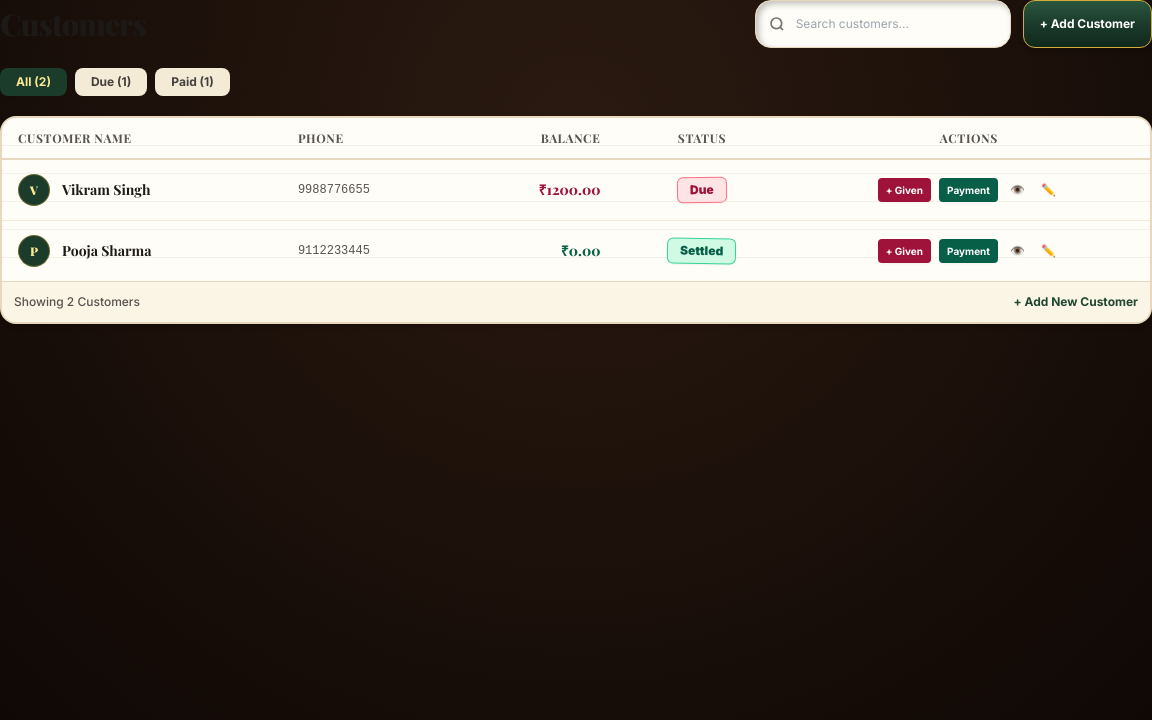
Test case: CustomerListPage › filters customers when filter tab is clicked
Note: Click "Due" filter button
Click the button "Due (1)": coordinates (111, 82) x1=75 y1=68 x2=147 y2=96
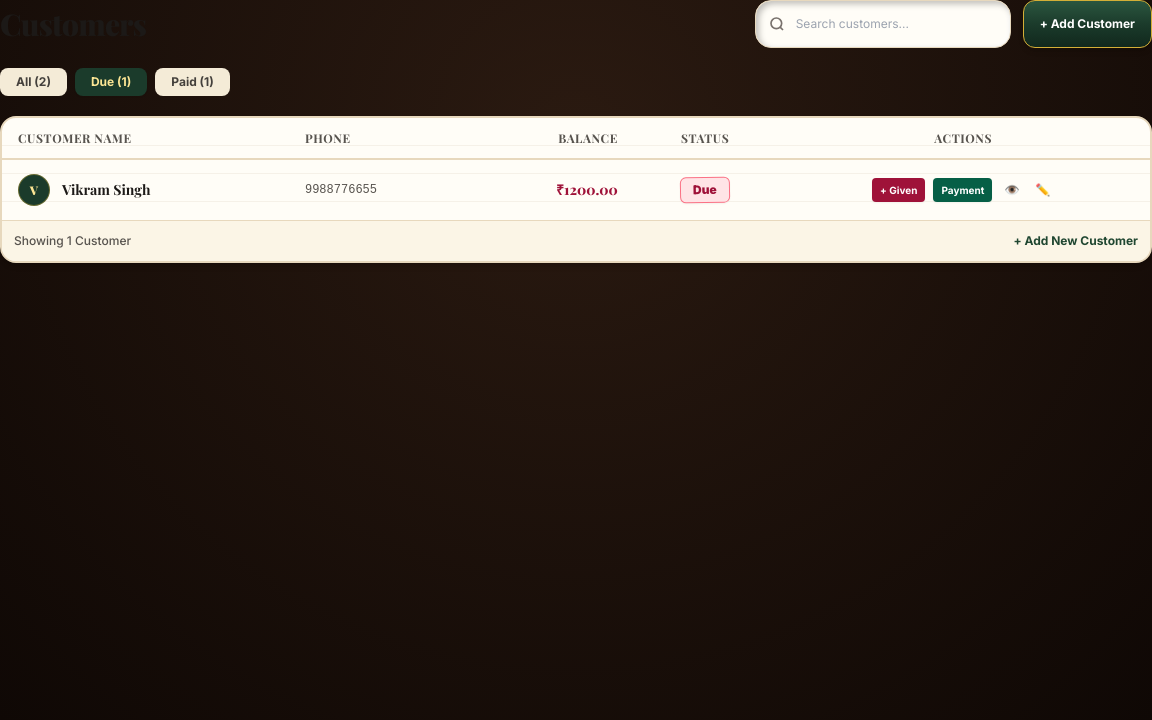
Check: the text "Pooja Sharma" is gone
